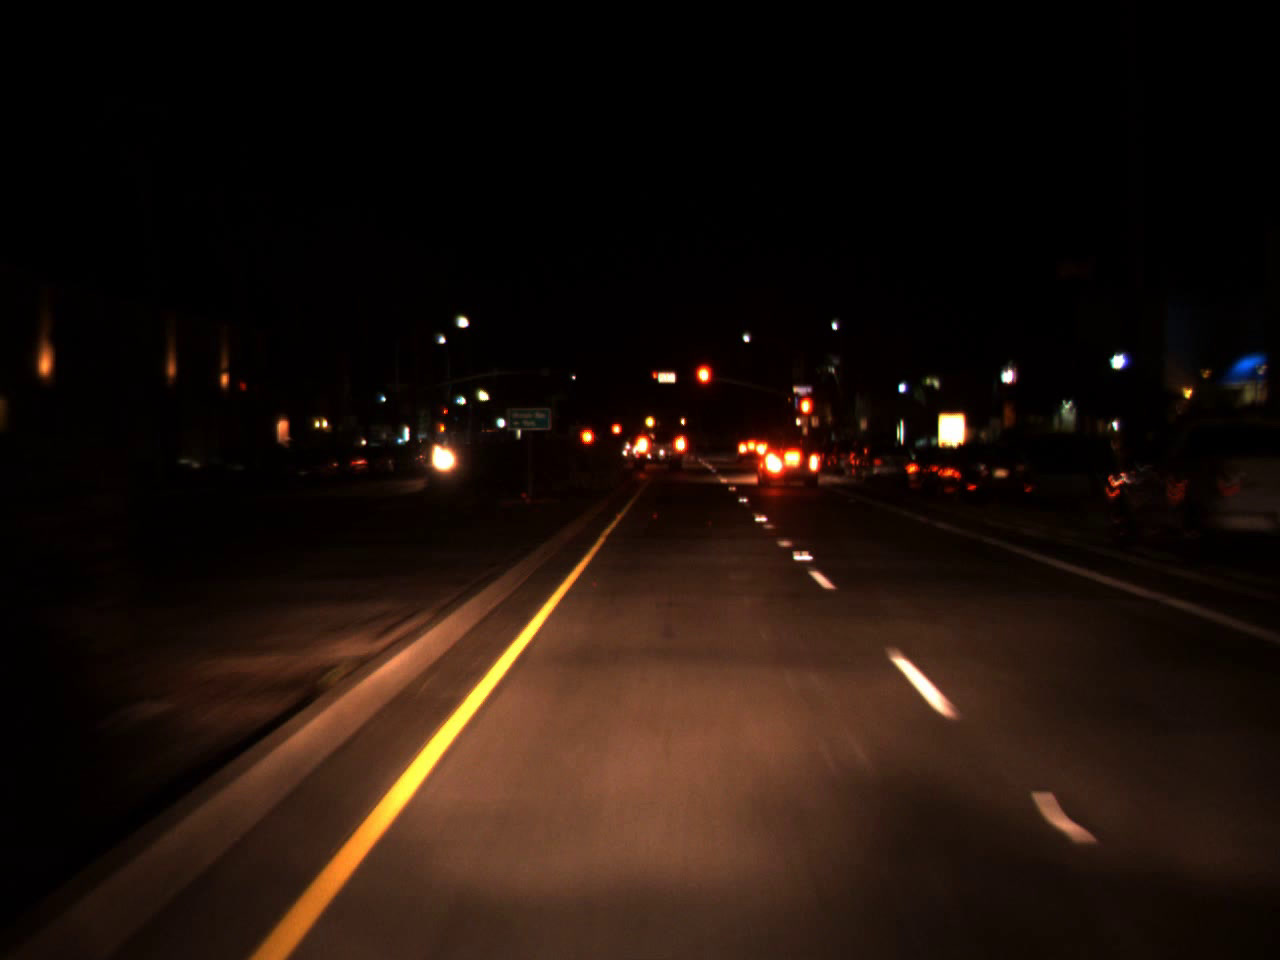stop: (693, 361, 714, 406), (797, 394, 815, 437), (651, 370, 658, 386), (442, 409, 447, 419)
